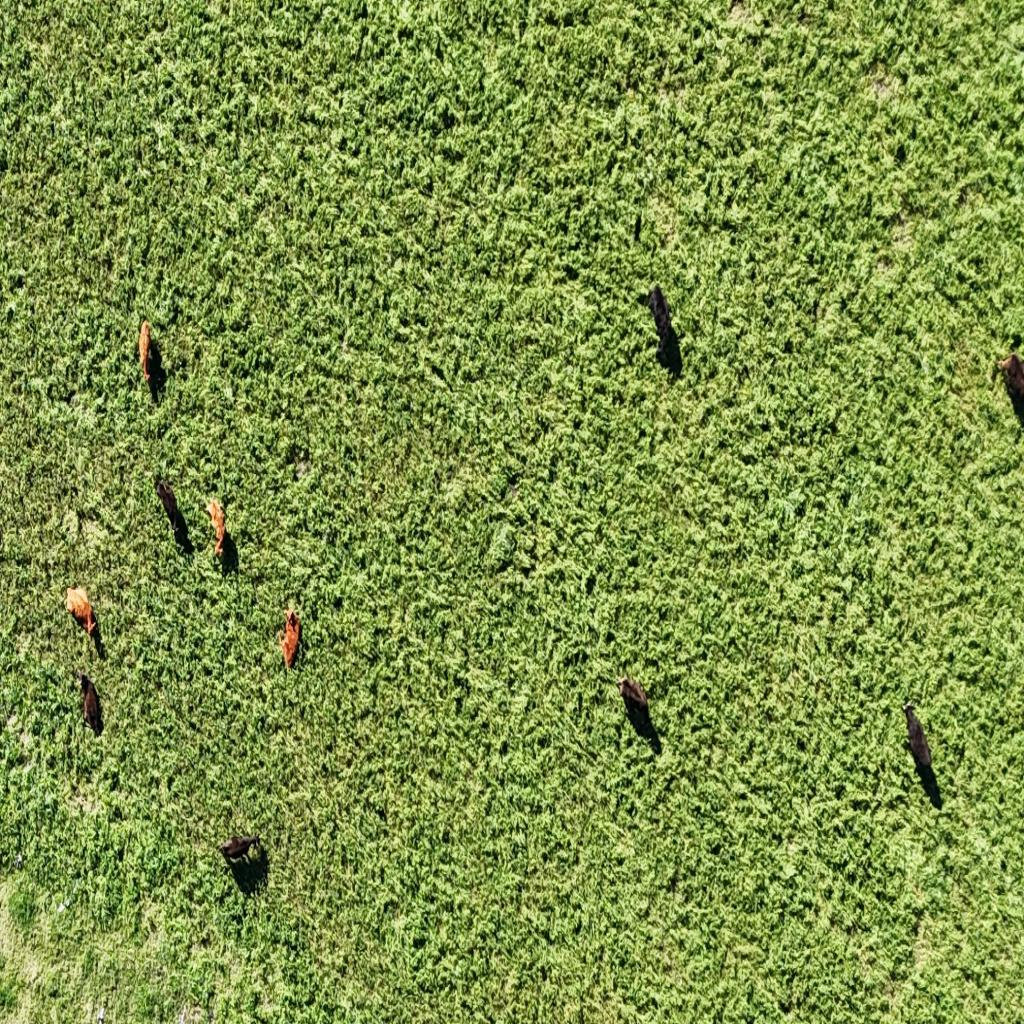cow: (63, 581, 100, 642), (902, 702, 933, 774), (74, 670, 102, 736), (616, 674, 650, 725), (138, 313, 161, 383), (996, 352, 1024, 406), (647, 284, 671, 344), (278, 610, 301, 670), (206, 497, 226, 557), (155, 479, 178, 525), (219, 834, 255, 861), (286, 608, 299, 632), (69, 582, 80, 602)
